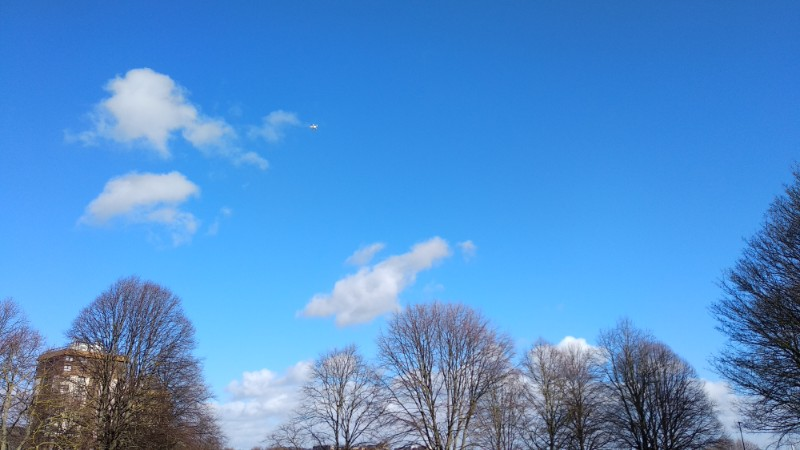drone: (308, 123, 318, 130)
